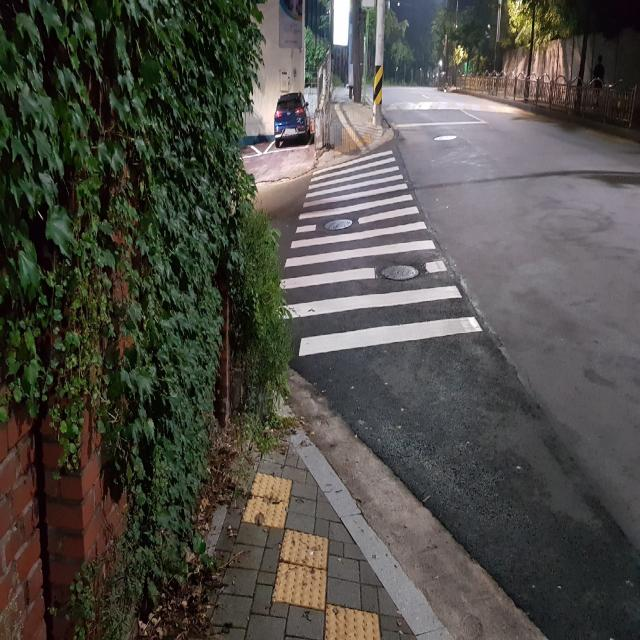횡단보도: (276, 149, 483, 357)
